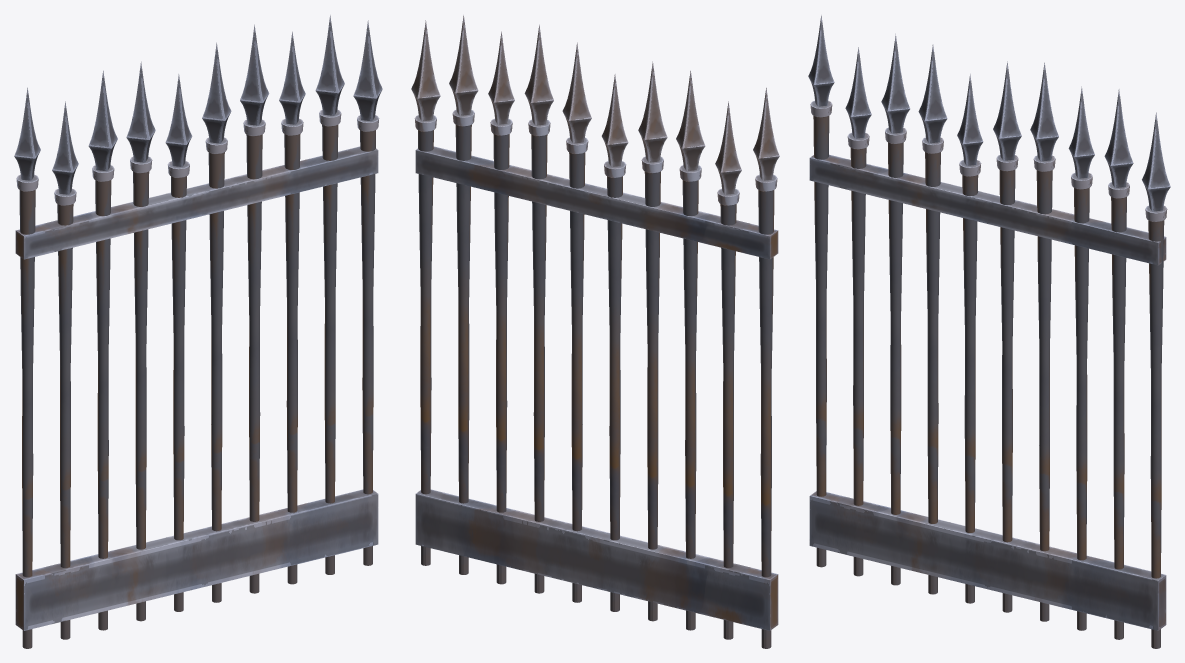
The model's file is Prop_MetalFence_Simple.gltf.
3 views of the same model, side by side, from view 1: azimuth 30°, elevation 25°; view 2: azimuth 150°, elevation 25°; view 3: azimuth 330°, elevation 25° (orthographic).
Parts seen in each view (by area): view 1: Prop_MetalFence_Simple; view 2: Prop_MetalFence_Simple; view 3: Prop_MetalFence_Simple.
Part boxes in pixels (x1,y1,x2,y2): Prop_MetalFence_Simple: [14, 15, 382, 648]; Prop_MetalFence_Simple: [411, 15, 779, 648]; Prop_MetalFence_Simple: [808, 15, 1170, 648].
Bounding box in the file's own units: 1.95 × 2.87 × 0.1561.
1 material, 1 textured.
